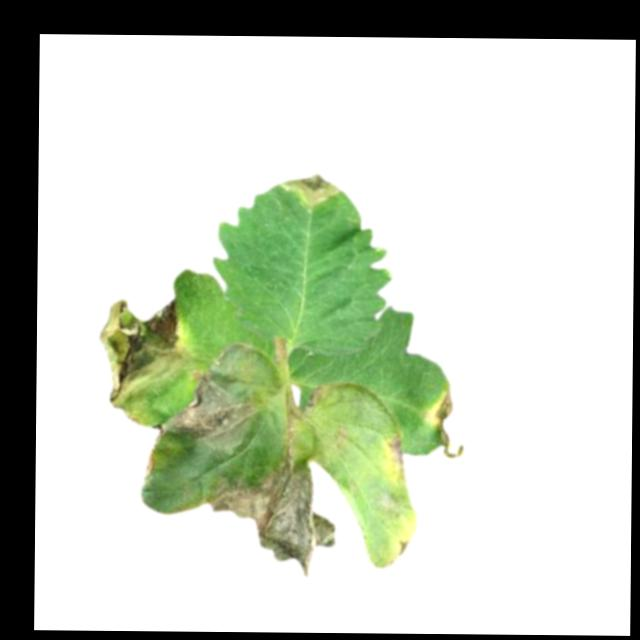Late_blight: (218, 454, 335, 579), (95, 295, 191, 424), (166, 343, 262, 453), (425, 388, 465, 459), (280, 172, 343, 202), (141, 428, 166, 480), (385, 432, 406, 471), (303, 385, 327, 417)
